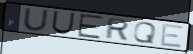E: (76, 13, 105, 40), (159, 23, 185, 49)
Q: (132, 21, 159, 45)
R: (103, 17, 132, 41)
U: (22, 7, 50, 33), (50, 10, 77, 35)
